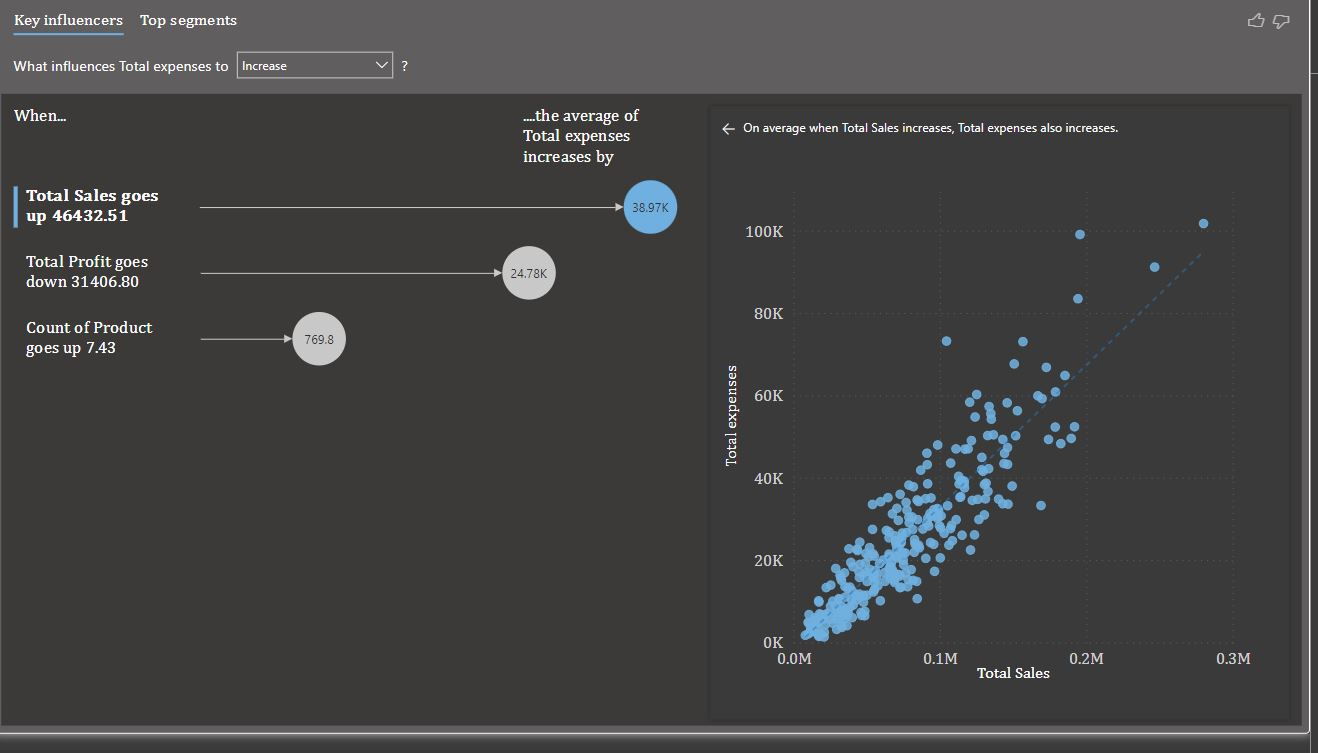

The dashboard page shown, as its layout file describes it:
{"tool":"powerbi","page":{"name":"Influencers chart","canvas":[1280,720],"ordinal":4},"visuals":[{"type":"keyDriversVisual","fields":{"Target":["actuals.Total expenses"],"ExplainBy":["actuals.Product","actuals.Date.Variation.Hiérarchie de dates.Année","actuals.Date.Variation.Hiérarchie de dates.Trimestre","actuals.Date.Variation.Hiérarchie de dates.Mois","actuals.Date.Variation.Hiérarchie de dates.Jour","actuals.Total Profit","actuals.Total Sales"]},"box":[0,0,1280,720.2],"z":0}]}

Visuals, with their boxes on the page's 1280x720 design canvas (x1, y1, x2, y2). These are canvas units, not pixel positions in the 1318x753 screenshot, which may show the page scaled, cropped or inside an application window:
keyDriversVisual - actuals.Total expenses x actuals.Product: x1=0 y1=0 x2=1280 y2=720
